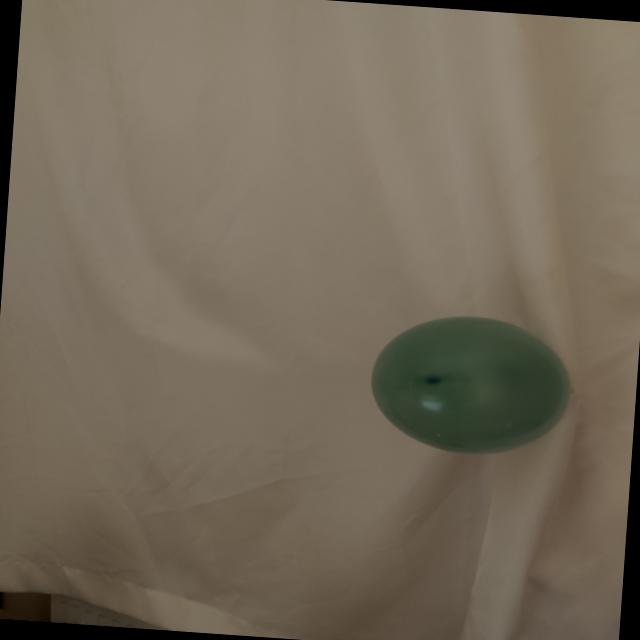balloon: (371, 316, 569, 452)
